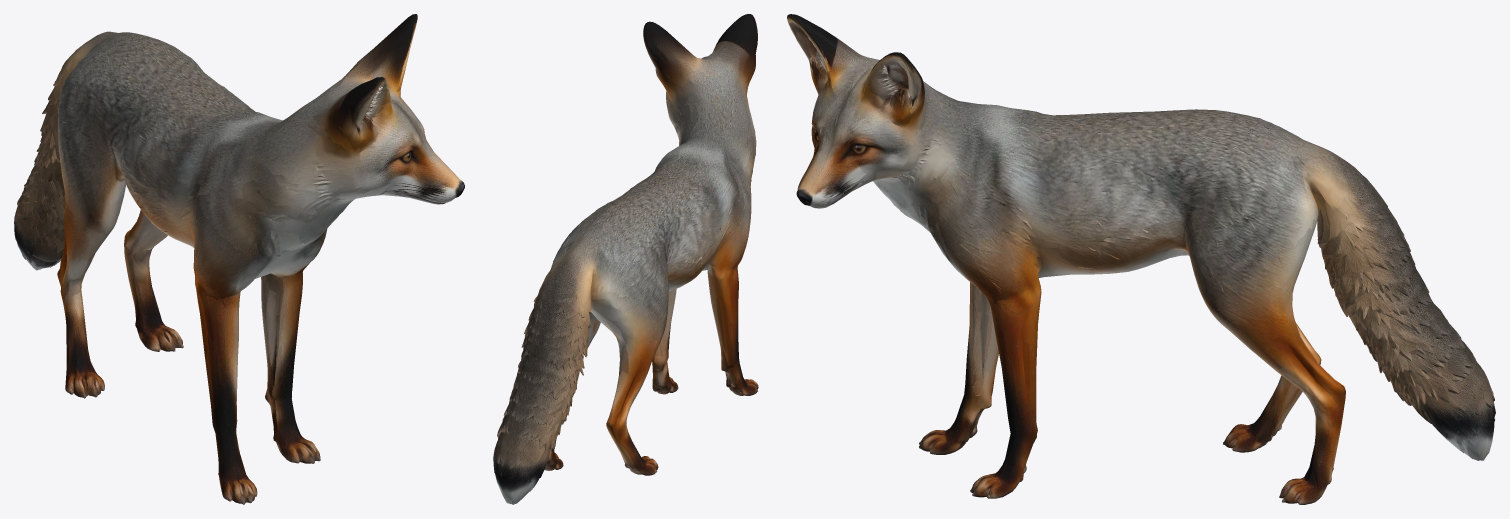
The model's file is gray-fox.glb.
3 views of the same model, side by side, from view 1: azimuth 30°, elevation 25°; view 2: azimuth 150°, elevation 25°; view 3: azimuth 270°, elevation 25° (orthographic). The views are drawn at different scales.
Bounding box in the file's own units: 0.5919 × 1.4 × 1.9.
Materials: 1 (1 with a texture image).
